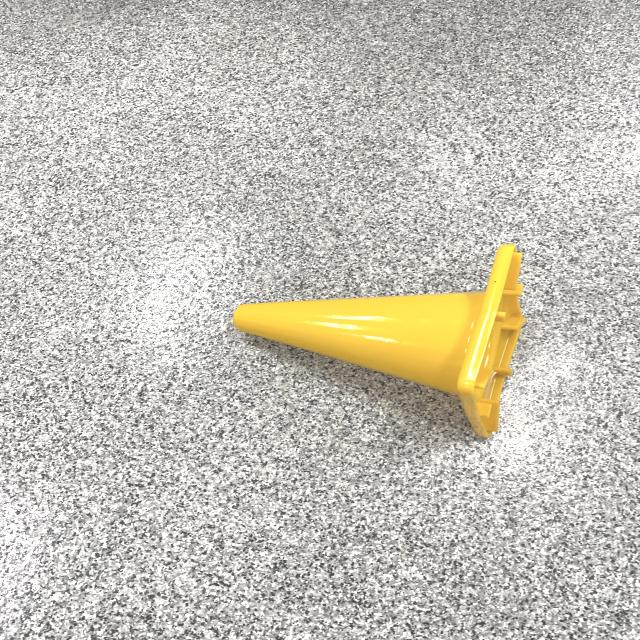frc_cone: (210, 238, 551, 445)
